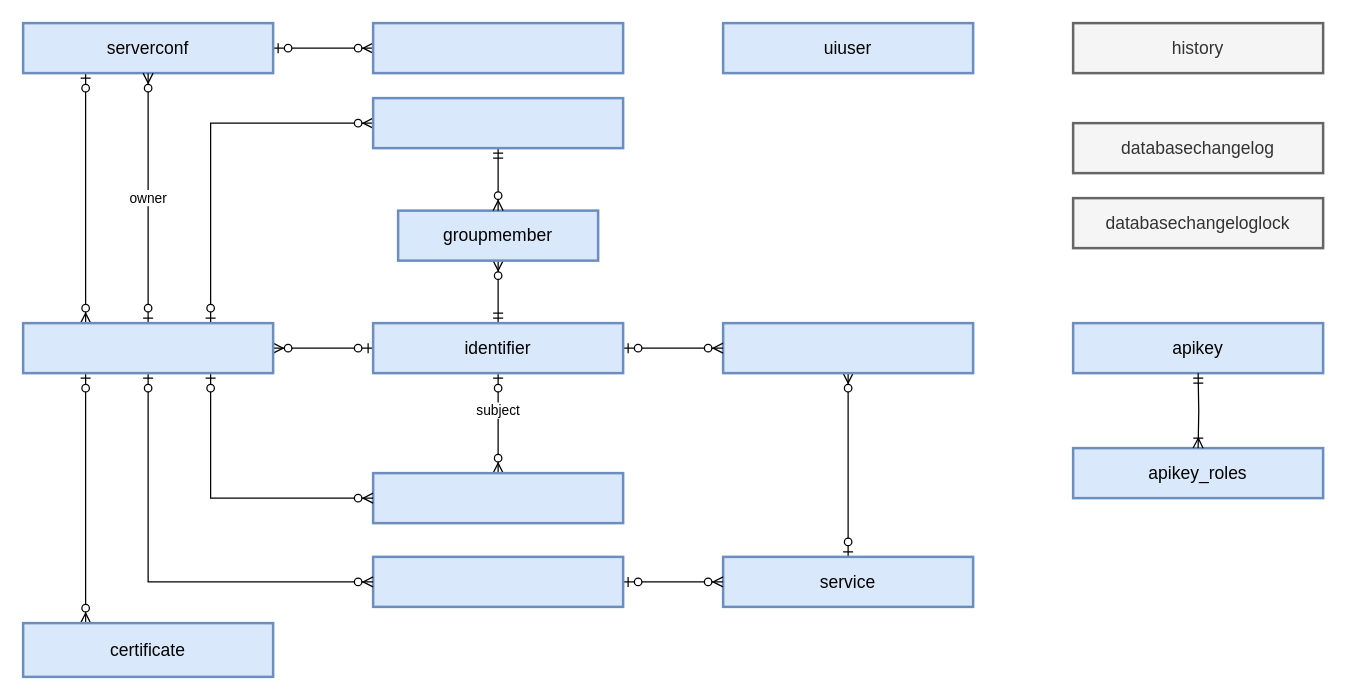
Some shapes in this 1345 by 699 pixel diagram are drawn without their labels. The shapes that lost their labels are listed below. From the top down, each one's box as (x1, y1, x2, y2) in pixels, then its label:
(371, 21, 624, 74): tsp
(371, 96, 624, 149): localgroup
(21, 321, 274, 374): client
(721, 321, 974, 374): service_securitycategories
(371, 471, 624, 524): accessright
(371, 555, 624, 608): servicedescription
